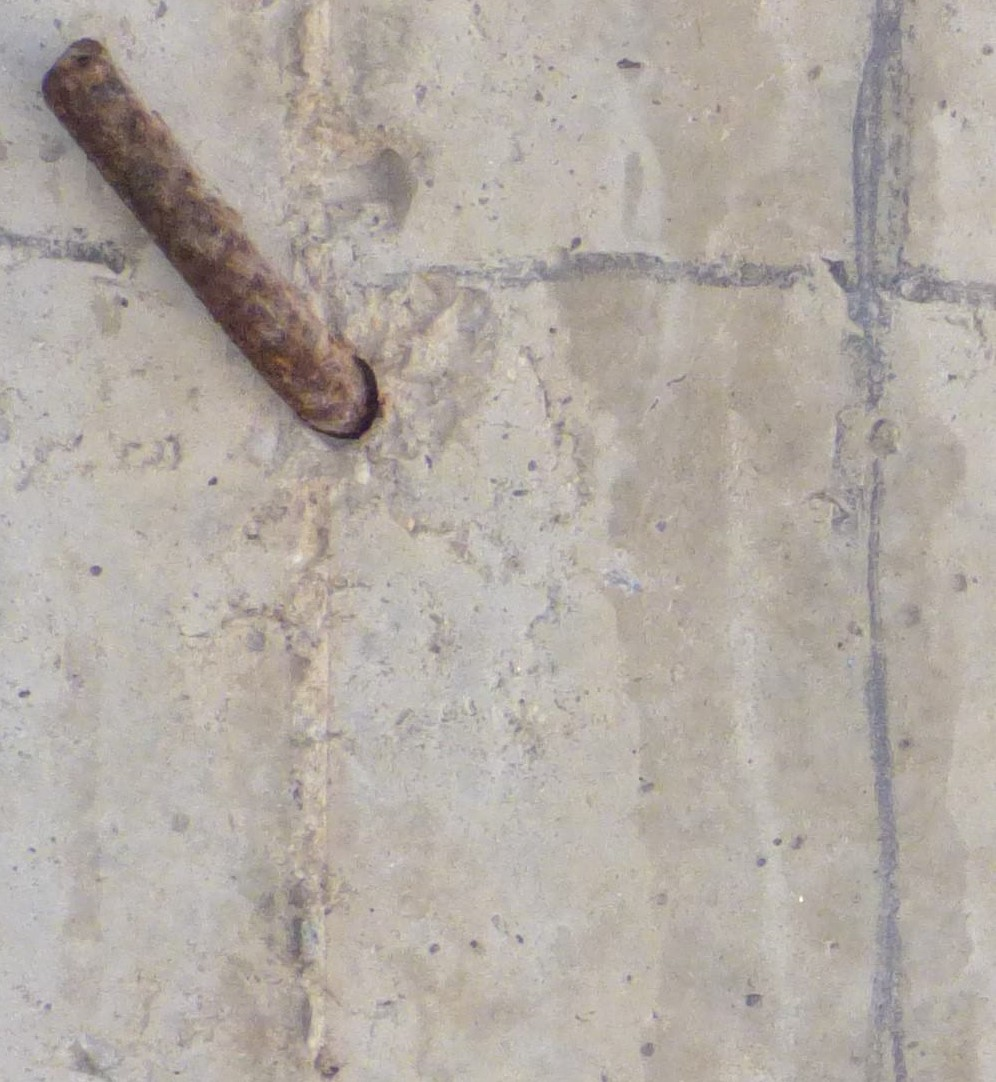Exposed reinforcement: (40, 37, 369, 435)
